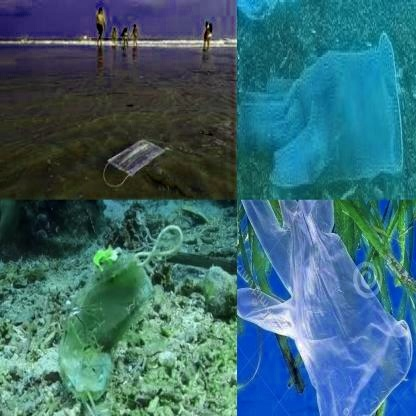Mask: (58, 225, 184, 415), (92, 126, 177, 198)
glove: (237, 199, 415, 416), (238, 33, 408, 189)
